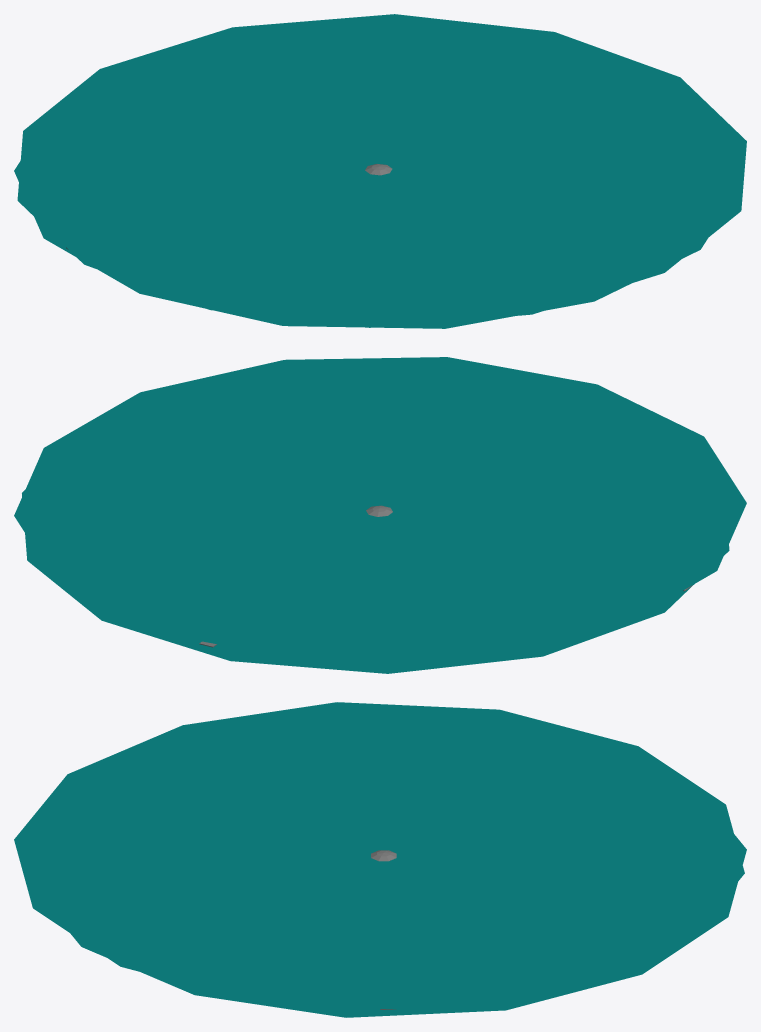
File: DAUPROTR.glb
The picture shows the model from 3 angles, top to bottom: view 1: azimuth 30°, elevation 25°; view 2: azimuth 150°, elevation 25°; view 3: azimuth 270°, elevation 25°; orthographic projection.
Visible parts, largest first — view 1: DAUPROTR | archived geometry; view 2: DAUPROTR | archived geometry; view 3: DAUPROTR | archived geometry.
Part boxes in pixels (x1=…): DAUPROTR | archived geometry: x1=14, y1=14, x2=746, y2=328; DAUPROTR | archived geometry: x1=14, y1=357, x2=746, y2=673; DAUPROTR | archived geometry: x1=14, y1=702, x2=746, y2=1017.
Bounding box in the file's own units: 10.92 × 0.304 × 10.96.
